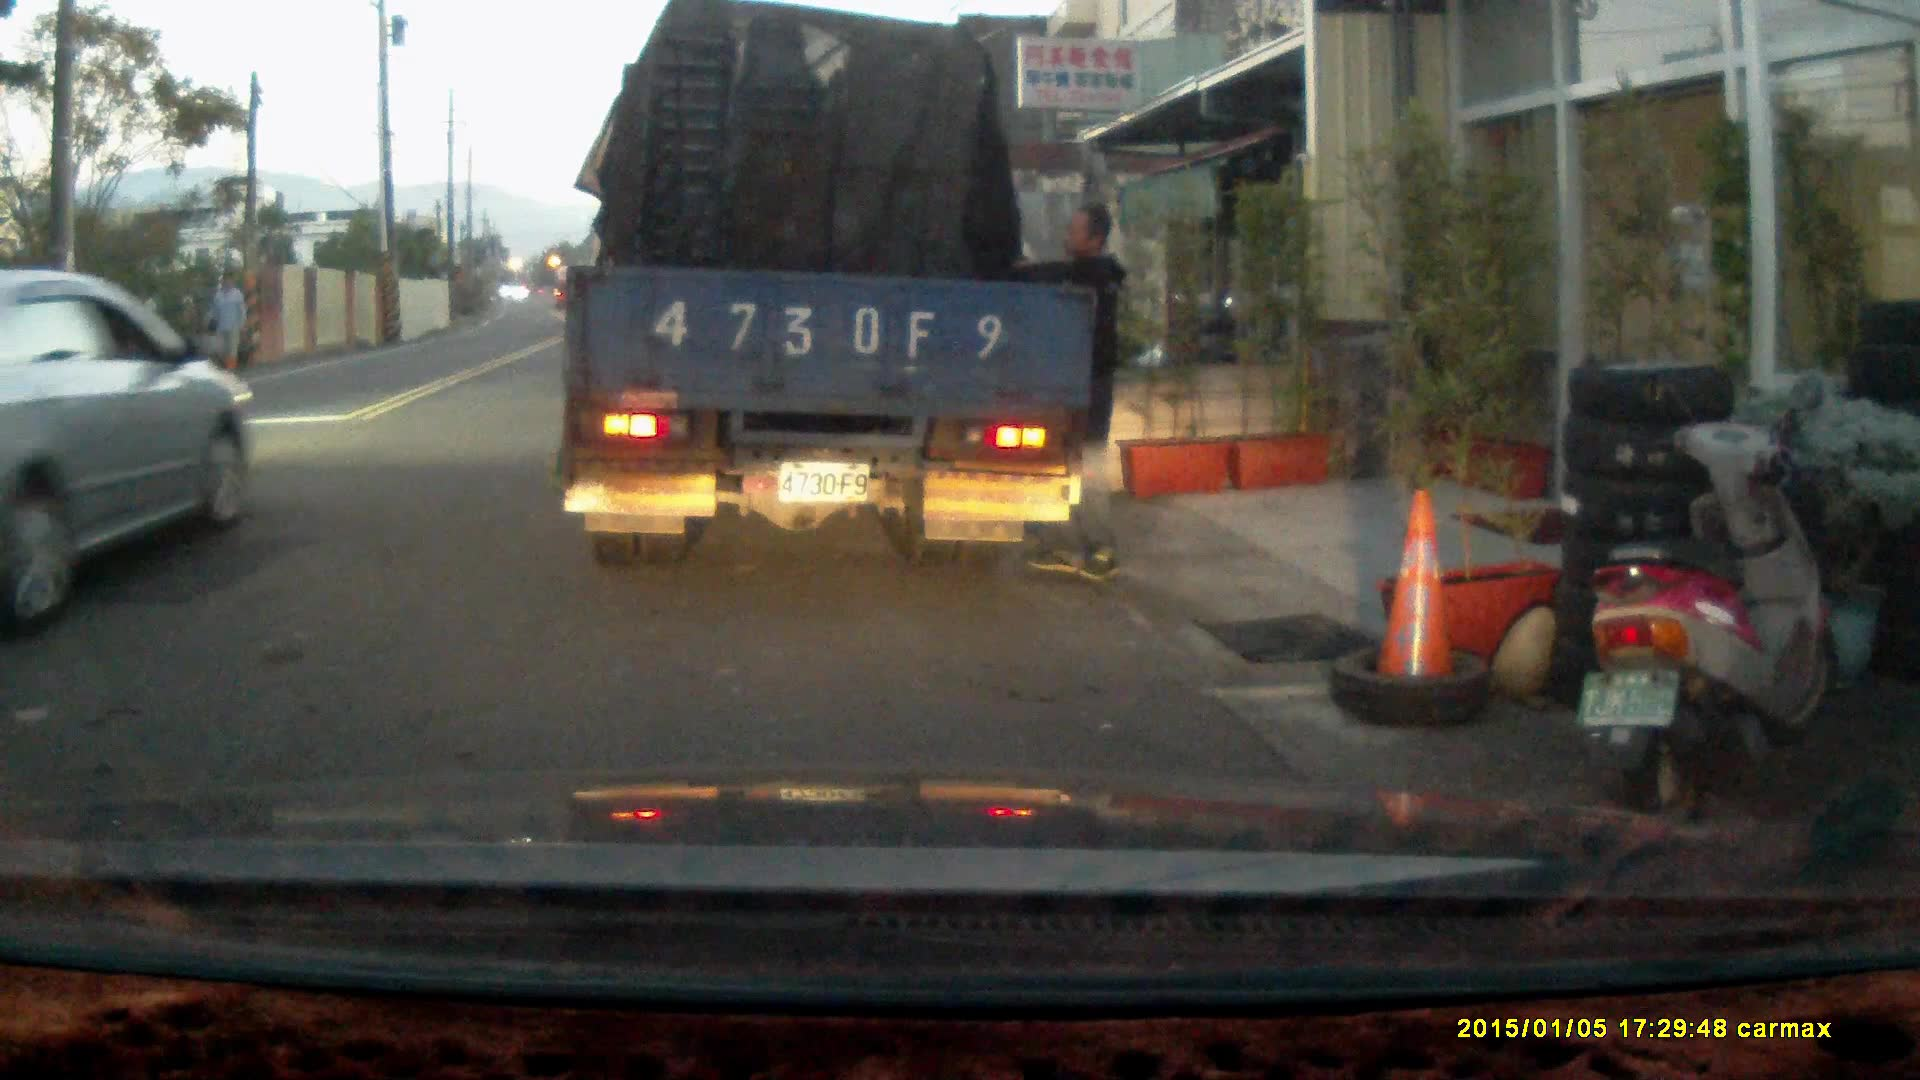pedestrian: (1006, 199, 1127, 581), (207, 270, 247, 383)
vehicle: (565, 23, 1097, 572), (1, 263, 260, 631)
